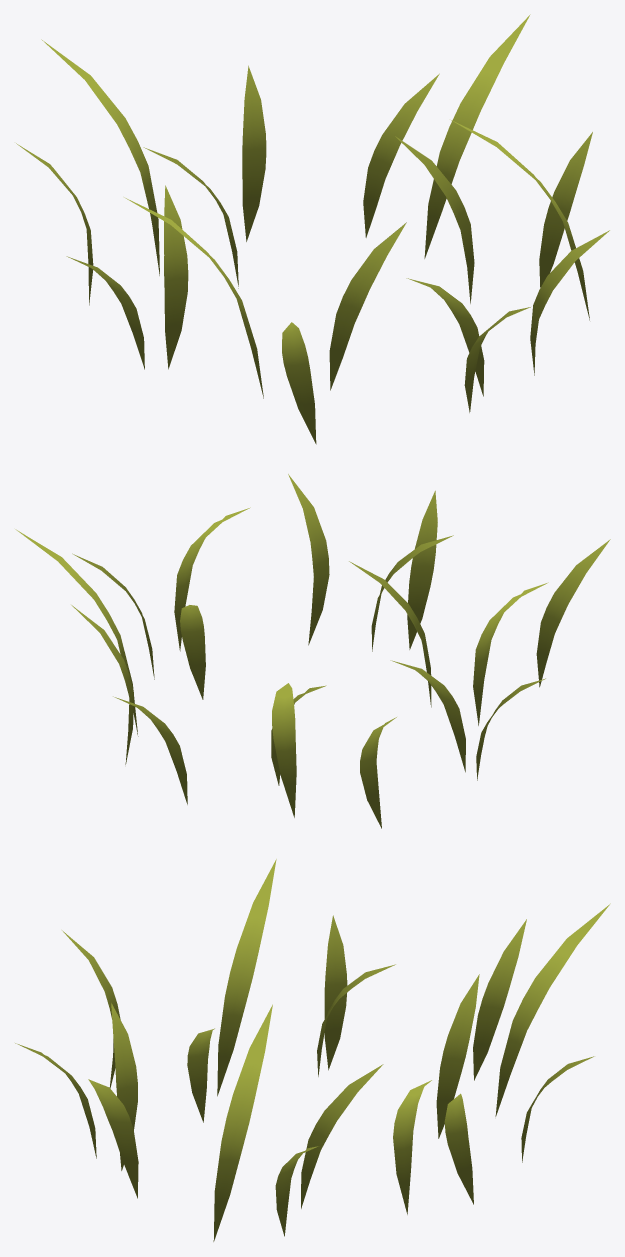
File: Grass_02.fbx
3 views of the same model, one above another, from view 1: azimuth 30°, elevation 25°; view 2: azimuth 150°, elevation 25°; view 3: azimuth 270°, elevation 25° (orthographic). The views are drawn at different scales.
Visible parts, largest first — view 1: Plane.021; view 2: Plane.021; view 3: Plane.021.
Boxes of the visible parts, x1,y1,x2,y2 form: Plane.021: [16, 14, 609, 444]; Plane.021: [15, 474, 610, 828]; Plane.021: [15, 859, 610, 1241].
Size of the model in its own units: 272 by 103 by 294.
Materials: 1 (1 with a texture image).
